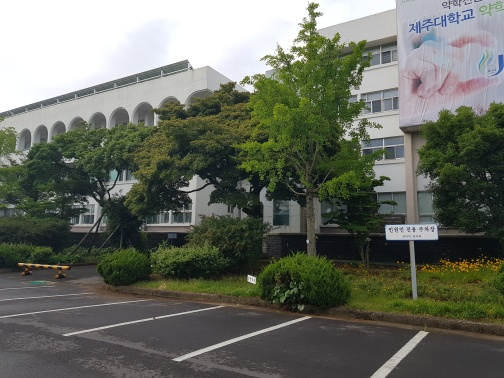Main Building of University: (14, 13, 445, 231)
